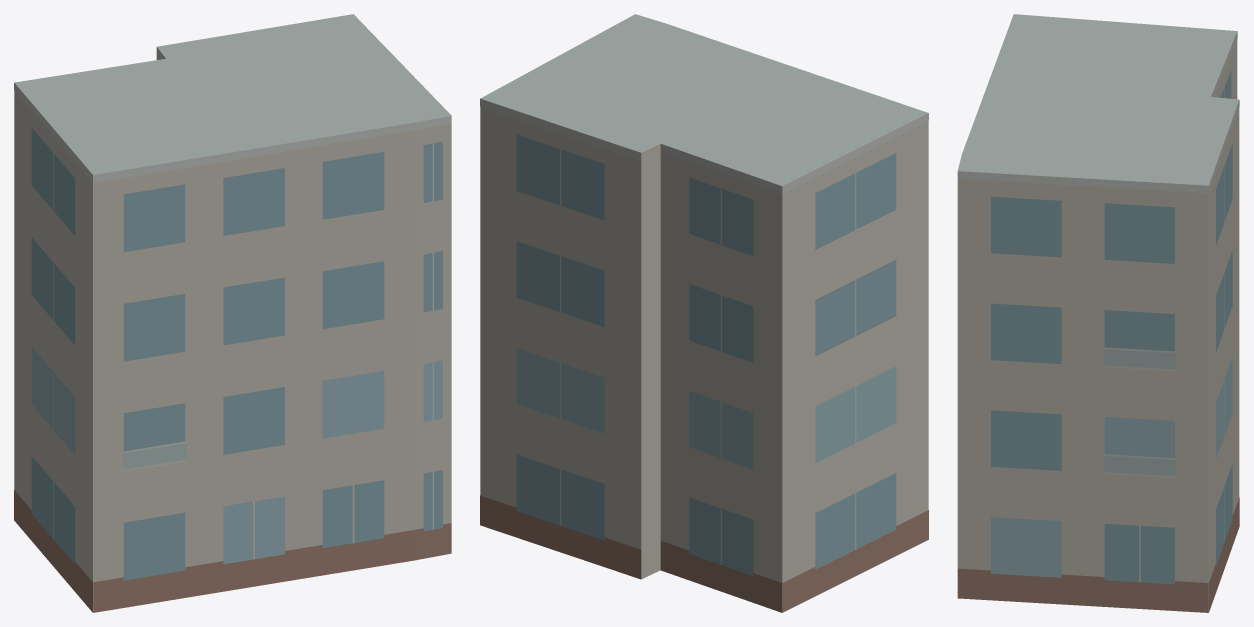
Rendered from survey-upis-32511241.glb.
3 renders of one model, left to right at view 1: azimuth 30°, elevation 25°; view 2: azimuth 150°, elevation 25°; view 3: azimuth 270°, elevation 25°, orthographic. The views are drawn at different scales.
Visible parts, largest first — view 1: survey-upis-32511241.tmp; view 2: survey-upis-32511241.tmp; view 3: survey-upis-32511241.tmp.
Boxes of the visible parts, x1,y1,x2,y2 form: survey-upis-32511241.tmp: [14, 14, 451, 612]; survey-upis-32511241.tmp: [480, 14, 928, 612]; survey-upis-32511241.tmp: [957, 14, 1239, 612].
Size of the model in its own units: 11.72 by 13.59 by 8.14.
